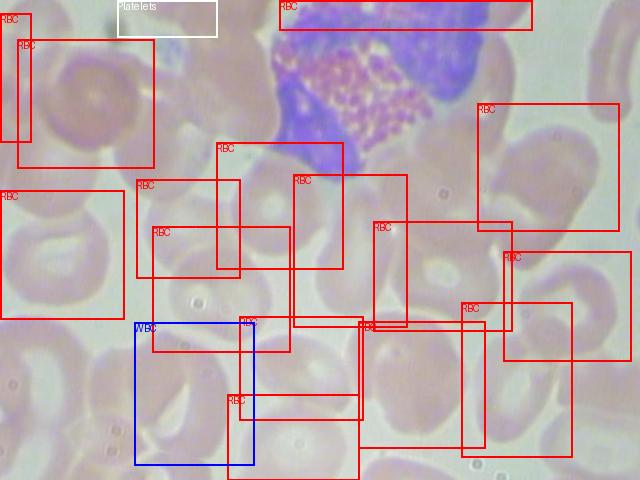Platelets: (117, 0, 217, 37)
RBC: (477, 103, 619, 231), (17, 39, 154, 168), (293, 174, 407, 327), (152, 226, 290, 352), (461, 302, 572, 457), (358, 321, 485, 448), (216, 142, 343, 269), (0, 190, 124, 319), (373, 221, 512, 331), (503, 251, 631, 361), (239, 316, 363, 420), (227, 394, 359, 480), (136, 179, 240, 278), (279, 0, 532, 30), (0, 13, 31, 142)
WBC: (134, 322, 254, 465)
